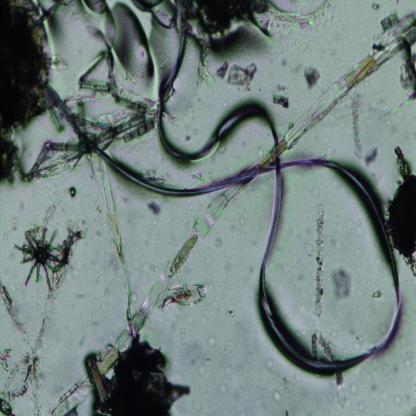Background material: (51, 184, 246, 414), (280, 13, 416, 156), (0, 0, 56, 182), (385, 137, 416, 260), (183, 0, 271, 36), (310, 198, 328, 316), (216, 60, 258, 90), (346, 83, 362, 159), (329, 267, 355, 303), (403, 48, 416, 108), (325, 389, 357, 410), (360, 138, 380, 164), (304, 66, 320, 90), (272, 93, 290, 110), (147, 201, 163, 219), (214, 380, 229, 397), (270, 386, 282, 404), (372, 284, 384, 302), (67, 184, 80, 200), (203, 334, 216, 350), (9, 214, 19, 234), (392, 395, 406, 407), (223, 364, 234, 378), (0, 226, 8, 243), (265, 359, 275, 371), (245, 355, 256, 365), (371, 0, 380, 11), (230, 307, 235, 318)
Cellulose filter fibre: (81, 154, 136, 338), (0, 289, 62, 407), (263, 1, 334, 29)
Diatom: (25, 47, 169, 176), (14, 224, 64, 290), (380, 9, 401, 30)
Microfibre: (26, 0, 403, 376)
